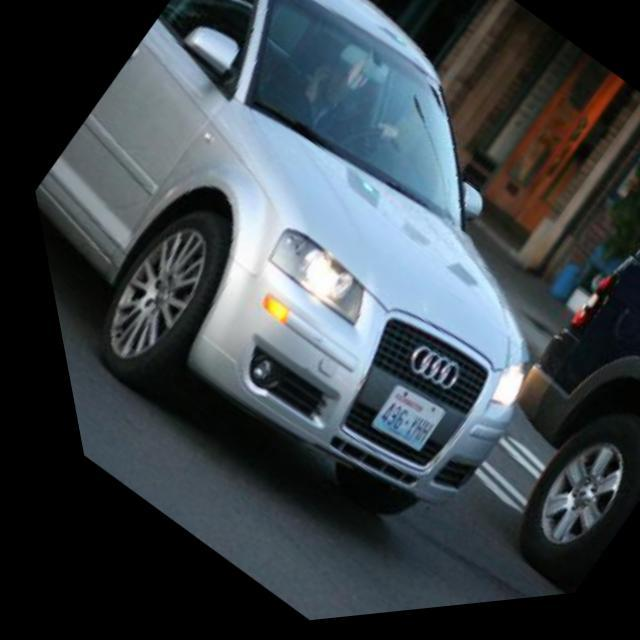license_plate: (345, 382, 437, 469)
